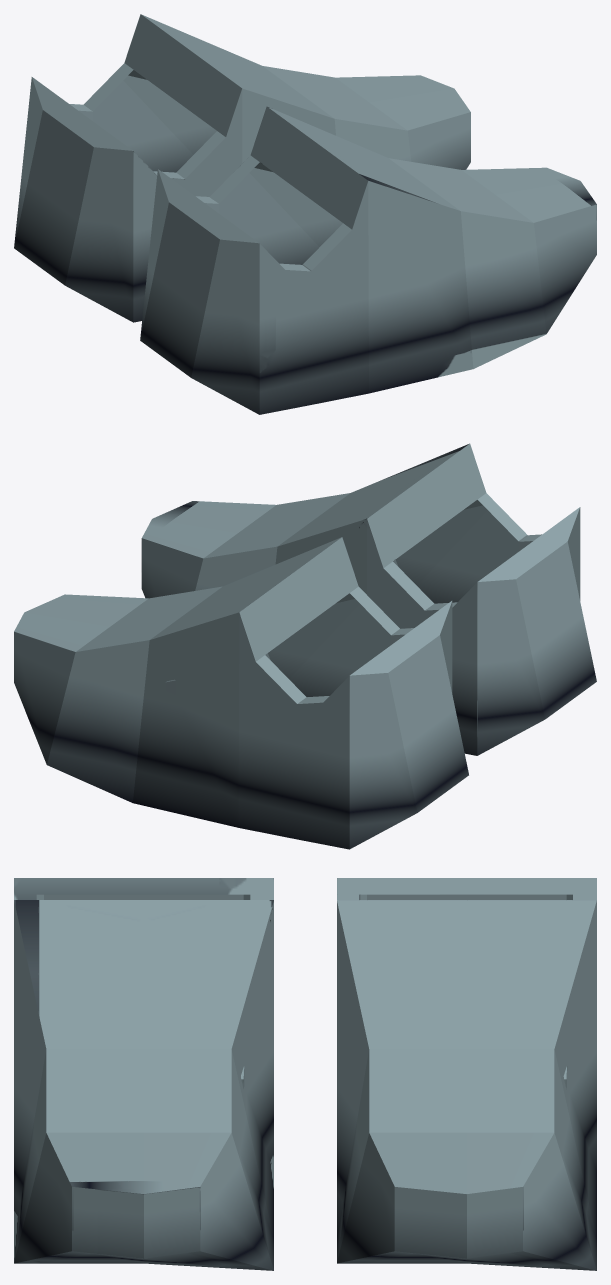
File: Shoes.glb
The picture shows the model from 3 angles, top to bottom: view 1: azimuth 30°, elevation 25°; view 2: azimuth 150°, elevation 25°; view 3: azimuth 270°, elevation 25°; orthographic projection. The views are drawn at different scales.
Visible parts, largest first — view 1: Cube, Cube.001; view 2: Cube.001, Cube; view 3: Cube.001, Cube.
Boxes of the visible parts, x1,y1,x2,y2 form: Cube: (140,106,596,414); Cube.001: (14,14,470,322); Cube.001: (14,537,468,849); Cube: (141,443,596,755); Cube.001: (337,878,596,1270); Cube: (14,878,273,1270).
Bounding box in the file's own units: 1.33 × 0.6578 × 1.27.
1 material, 1 textured.
